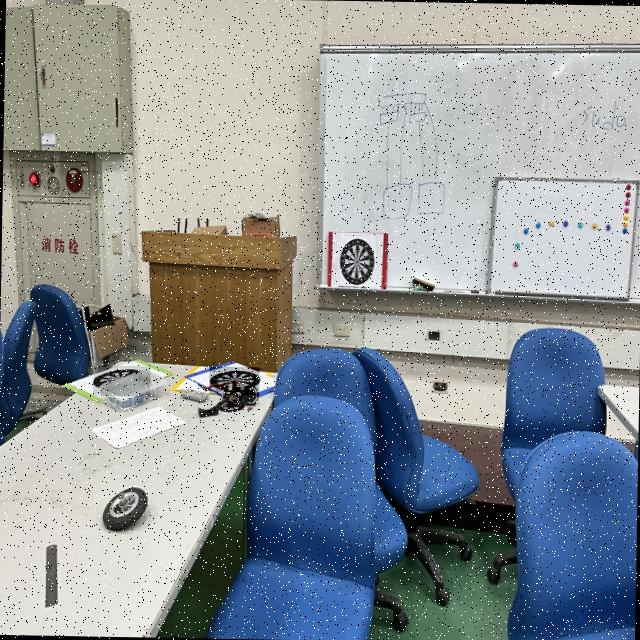archery-targets: (338, 236, 376, 286), (92, 365, 150, 396), (210, 366, 260, 394)
